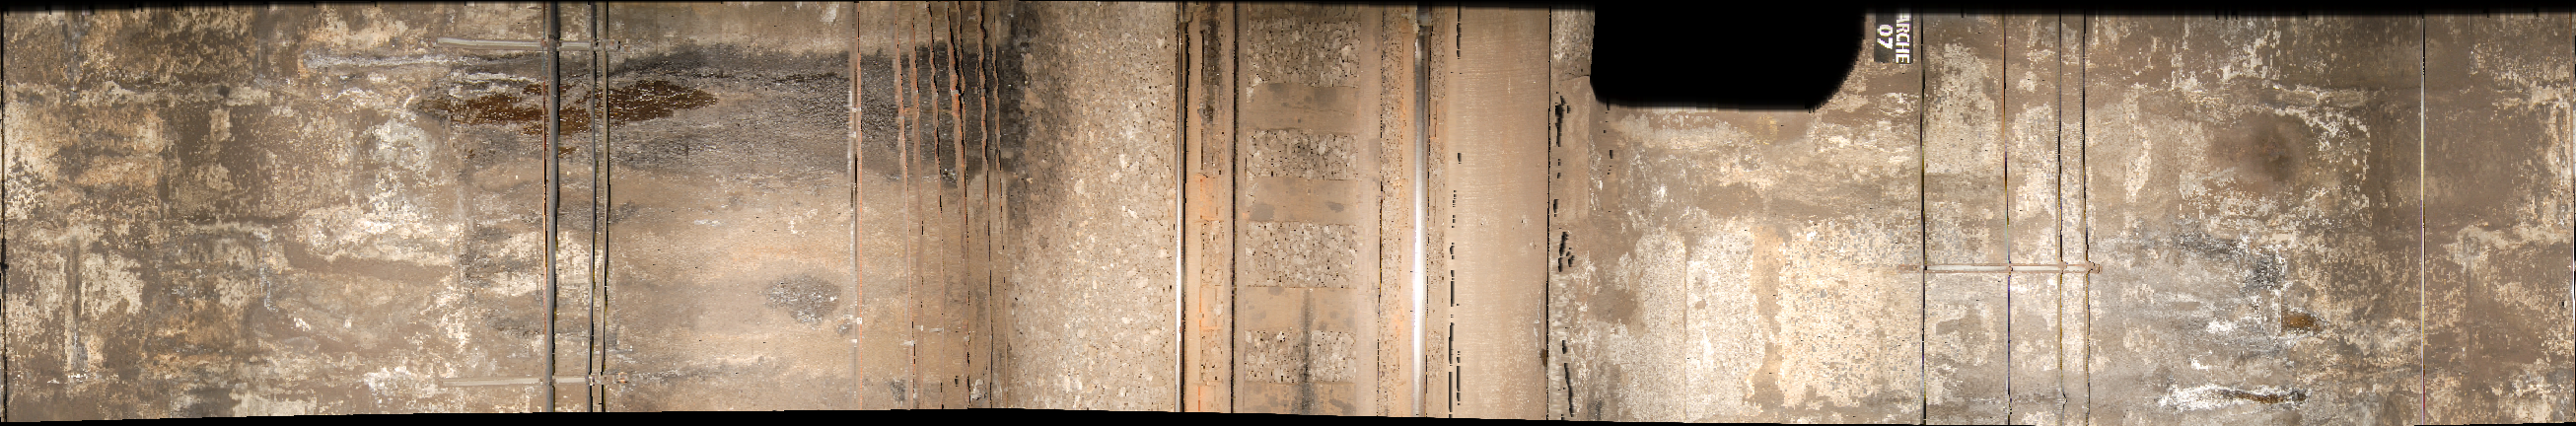pipes: (848, 7, 1017, 426), (537, 2, 614, 426), (2054, 10, 2103, 426), (2413, 25, 2436, 424), (1994, 20, 2016, 426), (1916, 262, 2118, 283)
sign: (1876, 12, 1916, 69)
tracks: (1171, 7, 1460, 426)
